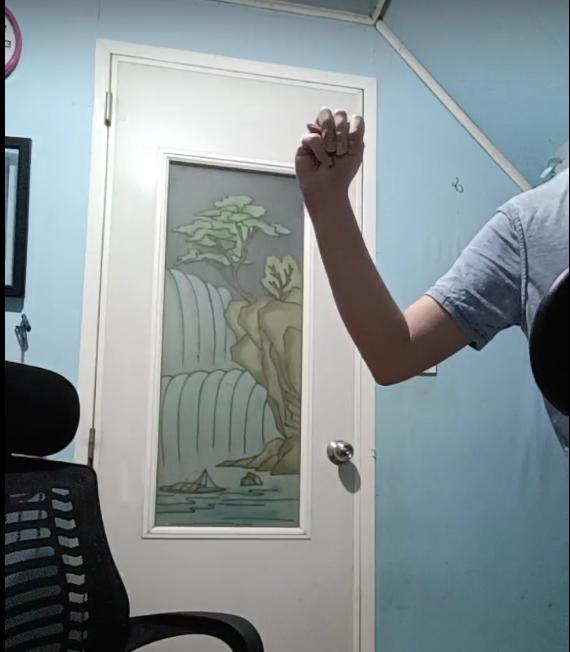m: (294, 100, 367, 200)
